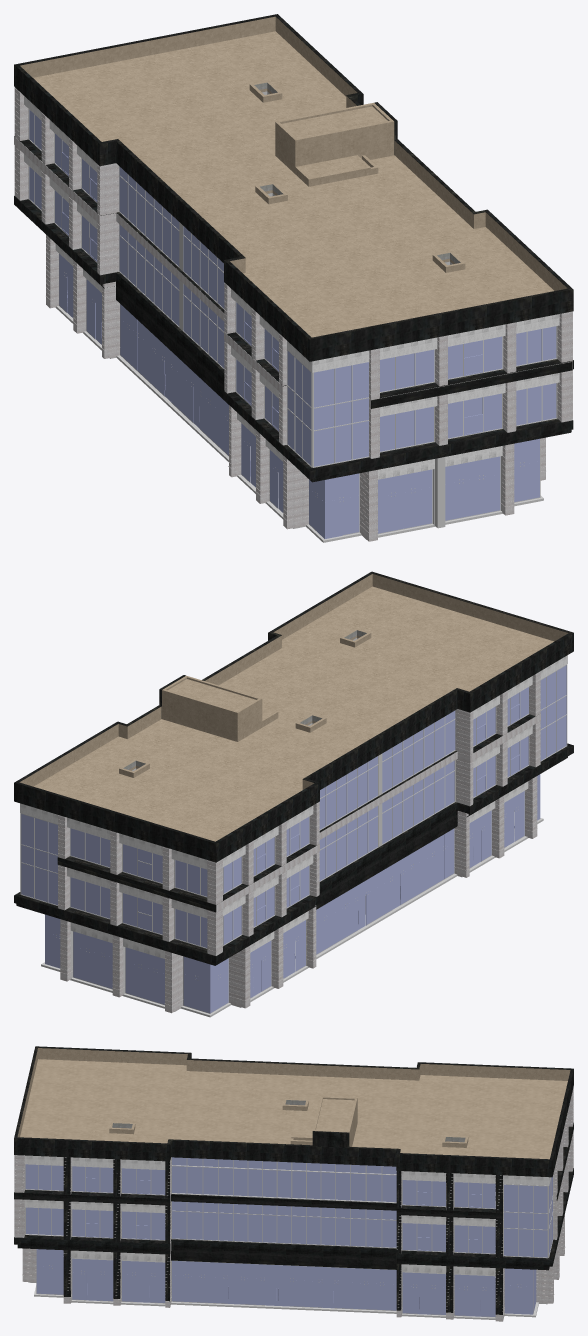
3 renders of one model, top to bottom at view 1: azimuth 30°, elevation 25°; view 2: azimuth 150°, elevation 25°; view 3: azimuth 270°, elevation 25°, orthographic. The views are drawn at different scales.
Parts seen in each view (by area): view 1: Floor R.F-FIN [897674], s1 s1 [399549], s4 s2 [414248], s28 s7 [651437], s7 s7 [479443], Basic Wall WALL - 200mm [388164], Generic Models 3 Generic Models 1 [352629], s5 s5 [413549], Basic Wall WALL - 200mm [388334], Generic Models 2 Generic Models 1 [351478], s26 s5 [627793], Floor G.F.FIN [355417] (+33 smaller); view 2: Floor R.F-FIN [897674], s1 s1 [399549], s4 s2 [414248], s28 s7 [651437], s7 s7 [479443], Generic Models 3 Generic Models 1 [352629], s5 s5 [413549], Basic Wall WALL - 200mm [388140], Basic Wall WALL - 200mm [388332], Generic Models 2 Generic Models 1 [351478], s26 s5 [627793], Floor G.F.FIN [355417] (+20 smaller); view 3: Floor R.F-FIN [897674], s1 s1 [399549], s4 s2 [414248], s3 s7 [425915], Basic Wall WALL - 200mm [388176], Generic Models 3 Generic Models 1 [352629], s5 s5 [413549], Generic Models 2 Generic Models 1 [351478], Basic Wall WALL - 200mm [388168], Basic Wall WALL - 200mm [388136], s38 s2 [930299], Floor G.F.FIN [355417] (+93 smaller).
Boxes of the visible parts, x1=… form: Floor R.F-FIN [897674]: x1=33, y1=31, x2=553, y2=337; s1 s1 [399549]: x1=14, y1=14, x2=573, y2=361; s4 s2 [414248]: x1=14, y1=196, x2=573, y2=481; s28 s7 [651437]: x1=41, y1=113, x2=286, y2=445; s7 s7 [479443]: x1=46, y1=235, x2=308, y2=520; Basic Wall WALL - 200mm [388164]: x1=20, y1=16, x2=275, y2=77; Generic Models 3 Generic Models 1 [352629]: x1=24, y1=96, x2=559, y2=372; s5 s5 [413549]: x1=15, y1=196, x2=572, y2=482; Basic Wall WALL - 200mm [388334]: x1=294, y1=121, x2=391, y2=173; Generic Models 2 Generic Models 1 [351478]: x1=24, y1=154, x2=559, y2=416; s26 s5 [627793]: x1=14, y1=136, x2=572, y2=398; Floor G.F.FIN [355417]: x1=55, y1=306, x2=543, y2=542; Floor R.F-FIN [897674]: x1=34, y1=586, x2=553, y2=841; s1 s1 [399549]: x1=14, y1=571, x2=573, y2=862; s4 s2 [414248]: x1=14, y1=745, x2=573, y2=965; s28 s7 [651437]: x1=242, y1=671, x2=540, y2=936; s7 s7 [479443]: x1=229, y1=776, x2=537, y2=1000; Generic Models 3 Generic Models 1 [352629]: x1=20, y1=655, x2=567, y2=869; s5 s5 [413549]: x1=14, y1=743, x2=573, y2=965; Basic Wall WALL - 200mm [388140]: x1=372, y1=574, x2=568, y2=641; Basic Wall WALL - 200mm [388332]: x1=162, y1=689, x2=236, y2=741; Generic Models 2 Generic Models 1 [351478]: x1=67, y1=726, x2=532, y2=918; s26 s5 [627793]: x1=64, y1=714, x2=535, y2=904; Floor G.F.FIN [355417]: x1=41, y1=818, x2=543, y2=1017; Floor R.F-FIN [897674]: x1=20, y1=1059, x2=567, y2=1159; s1 s1 [399549]: x1=14, y1=1046, x2=573, y2=1177; s4 s2 [414248]: x1=14, y1=1123, x2=573, y2=1269; s3 s7 [425915]: x1=63, y1=1157, x2=504, y2=1314; Basic Wall WALL - 200mm [388176]: x1=186, y1=1060, x2=416, y2=1080; Generic Models 3 Generic Models 1 [352629]: x1=24, y1=1155, x2=551, y2=1185; s5 s5 [413549]: x1=16, y1=1168, x2=573, y2=1270; Generic Models 2 Generic Models 1 [351478]: x1=24, y1=1199, x2=495, y2=1226; Basic Wall WALL - 200mm [388168]: x1=420, y1=1064, x2=570, y2=1080; Basic Wall WALL - 200mm [388136]: x1=38, y1=1048, x2=187, y2=1065; s38 s2 [930299]: x1=171, y1=1194, x2=396, y2=1210; Floor G.F.FIN [355417]: x1=28, y1=1282, x2=547, y2=1319.
Size of the model in its own units: 22 by 15.99 by 45.5.
6 materials, 5 textured.
